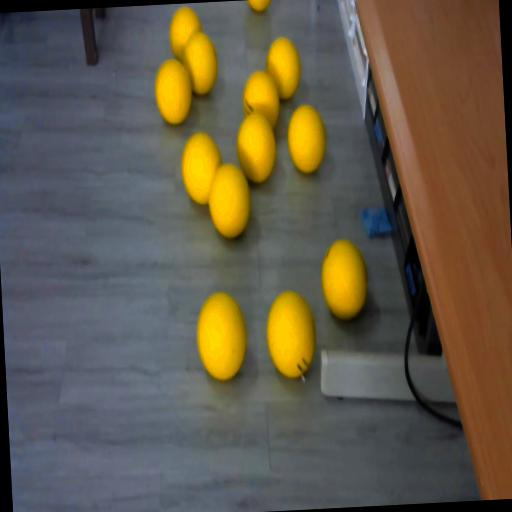FUEL: (193, 288, 249, 382), (264, 288, 318, 380), (319, 237, 370, 320), (205, 161, 253, 240), (235, 111, 280, 184), (286, 102, 328, 174), (182, 28, 220, 98), (154, 58, 194, 124), (265, 36, 302, 101), (246, 0, 273, 13)
